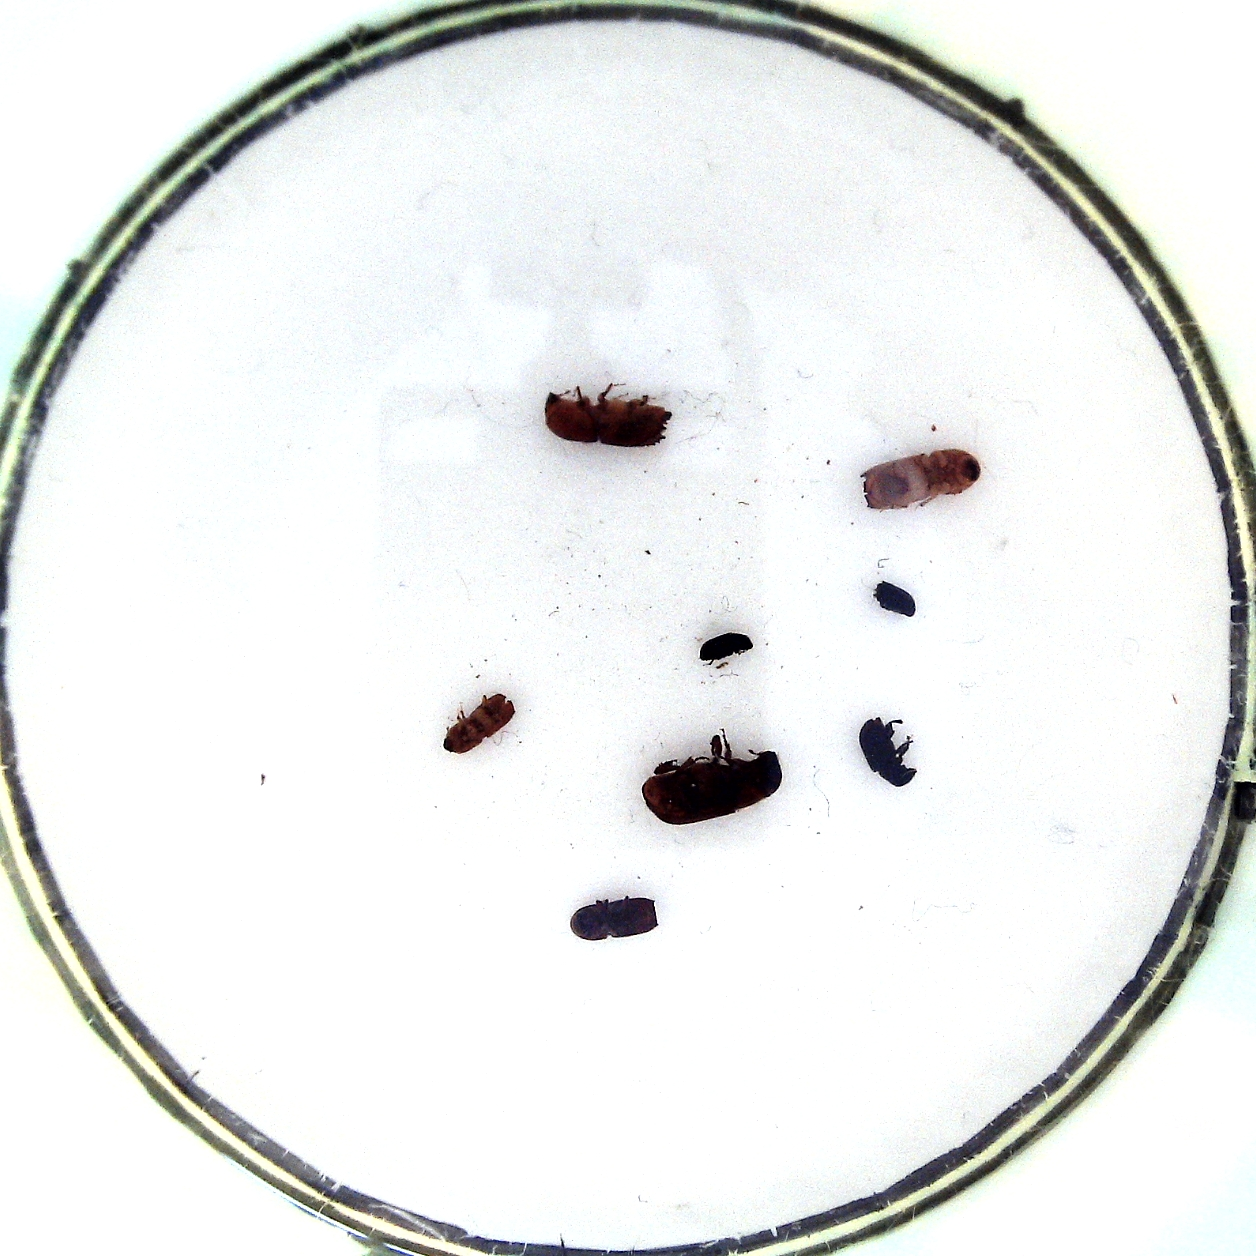Boerner: (539, 380, 675, 451), (860, 443, 985, 513)
Leconte: (634, 732, 783, 830)
Linnaeus: (566, 889, 663, 941)
acuminatus: (441, 689, 520, 755)
armandi: (855, 712, 920, 789)
coleoptera: (696, 631, 755, 669), (871, 577, 919, 622)
